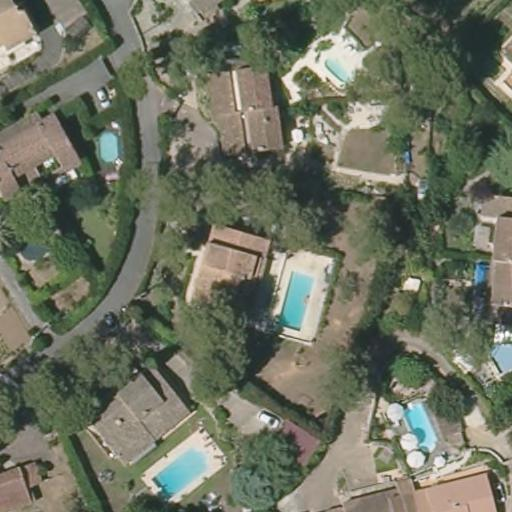pool: (138, 444, 208, 495), (274, 266, 319, 333), (396, 398, 440, 452), (92, 124, 123, 167), (319, 51, 356, 84), (472, 258, 489, 310)
